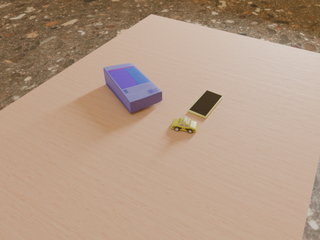book: (104, 63, 162, 113)
phone: (188, 90, 223, 118)
toy_car: (171, 116, 197, 133)
